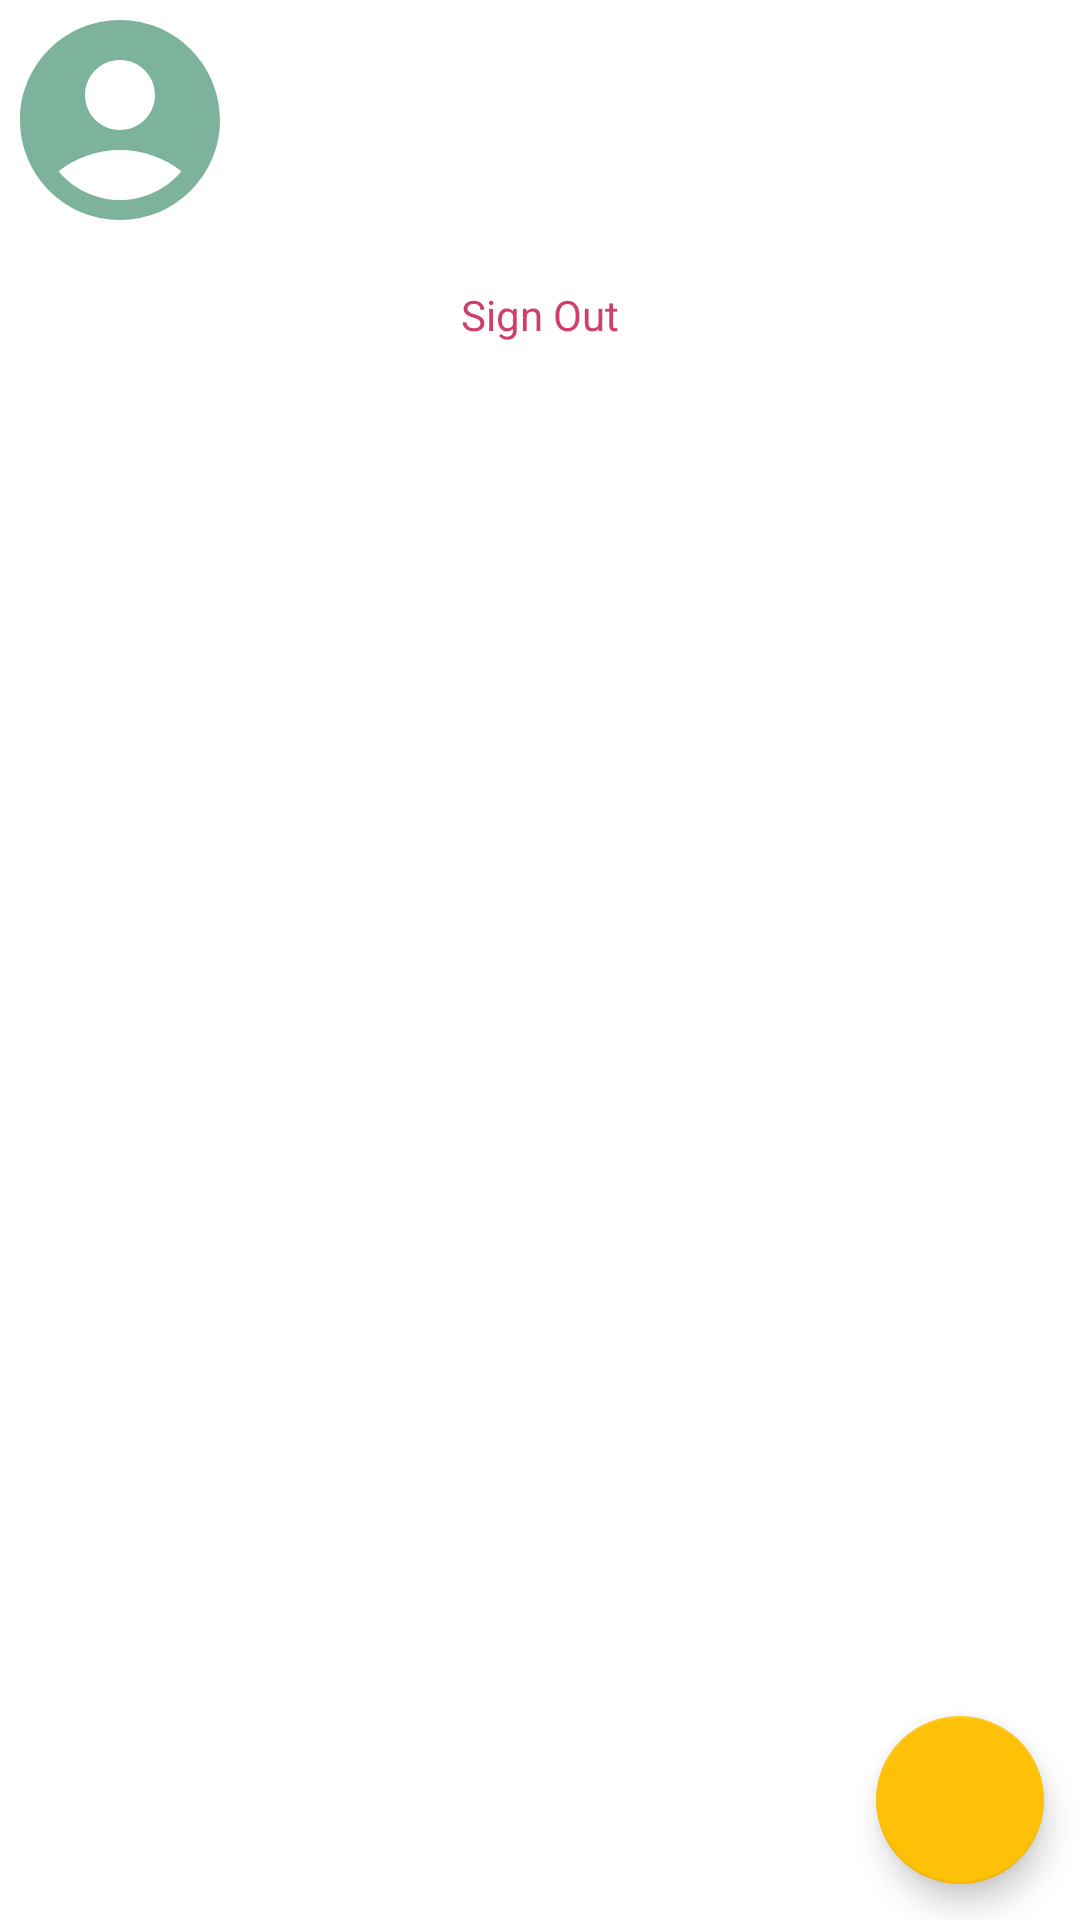

Named icons in this screenshot (1080w x 1920h) and their centers, (x=x, y=y):
account circle: (x=120, y=120)
